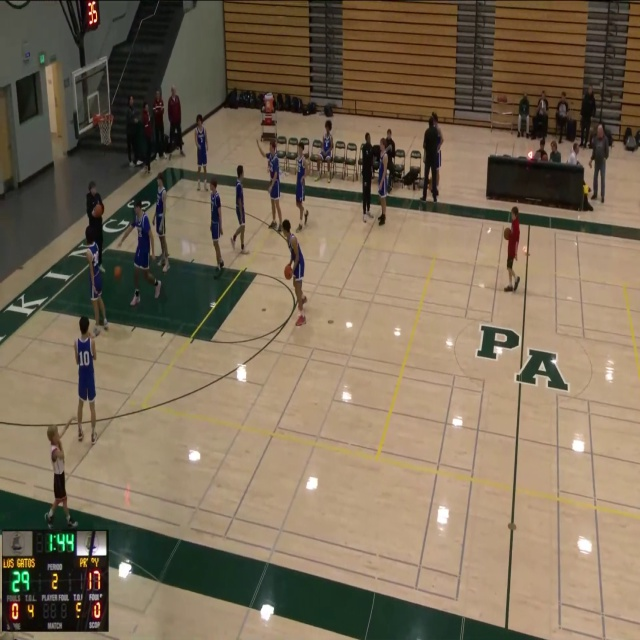Basketball: (92, 204, 104, 218), (284, 265, 293, 279), (114, 266, 122, 278), (504, 228, 511, 240)
